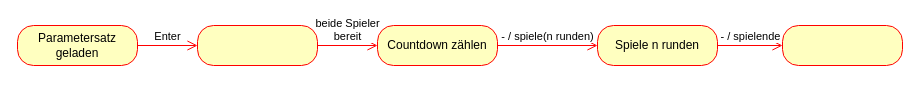
Image size: 920x85. Some labels were removed from this diagram. The centre of each missing label's shape, as x and y in pixels:
Speichern(RAM): (842,45)
Warten (auf Bereitsignal von beiden Spielern): (257,45)
